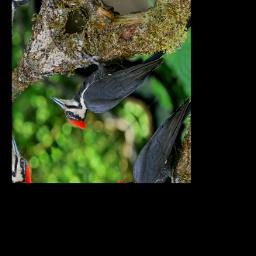Woodpecker: (44, 0, 174, 152)
